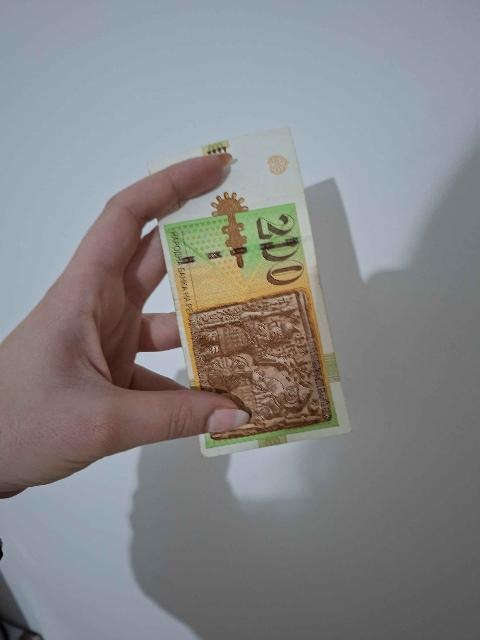note: (149, 128, 350, 456)
